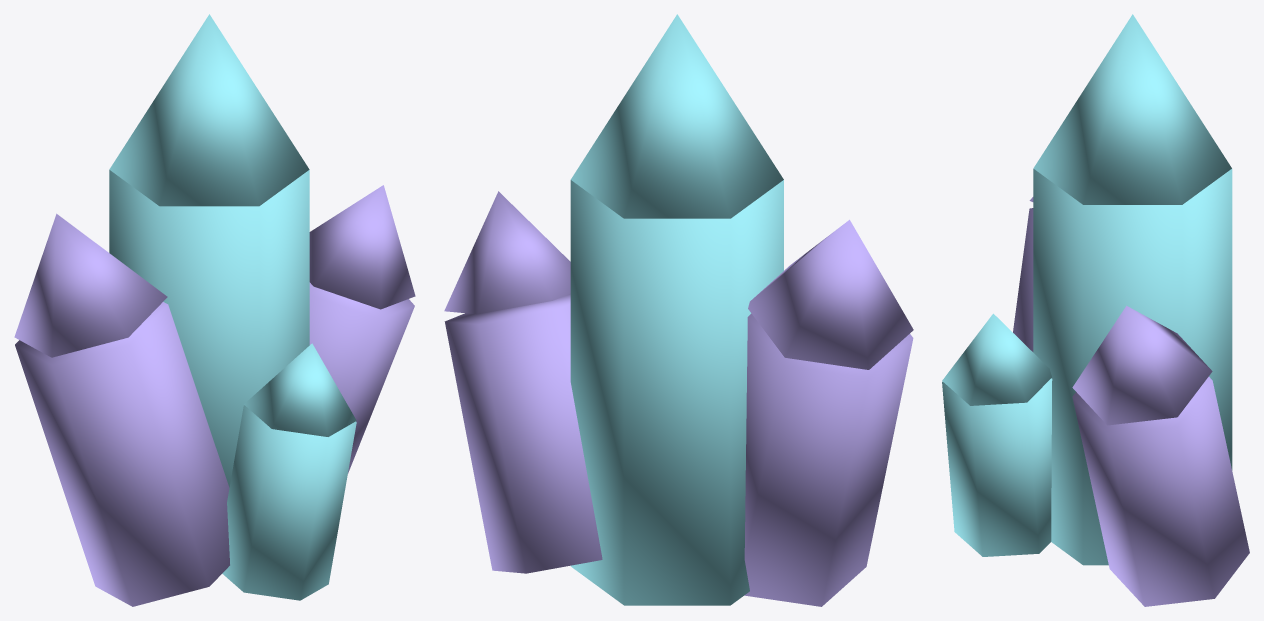
Rendered from Crystal.fbx.
3 views of the same model, side by side, from view 1: azimuth 30°, elevation 25°; view 2: azimuth 150°, elevation 25°; view 3: azimuth 270°, elevation 25° (orthographic). The views are drawn at different scales.
Parts seen in each view (by area): view 1: Crystal; view 2: Crystal; view 3: Crystal.
Part boxes in pixels (bbox=[...]): Crystal: bbox=[14, 14, 415, 606]; Crystal: bbox=[444, 14, 913, 606]; Crystal: bbox=[942, 14, 1249, 606].
Size of the model in its own units: 1.56 by 2.06 by 1.08.
